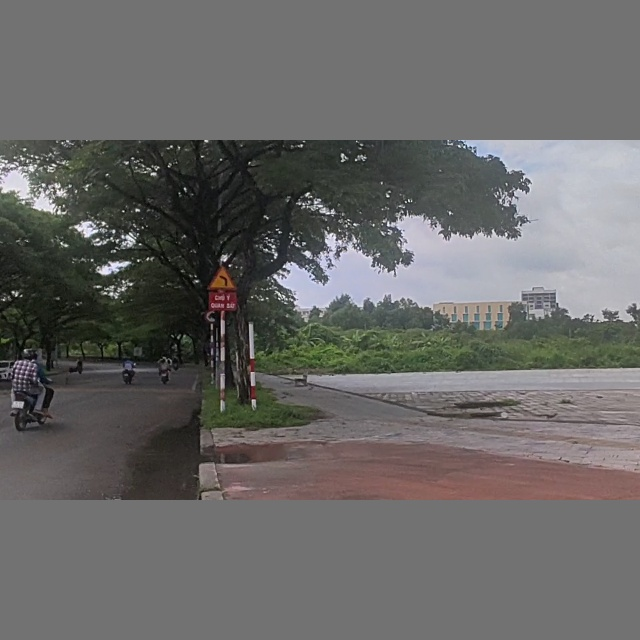W.201a: (206, 265, 241, 291)
